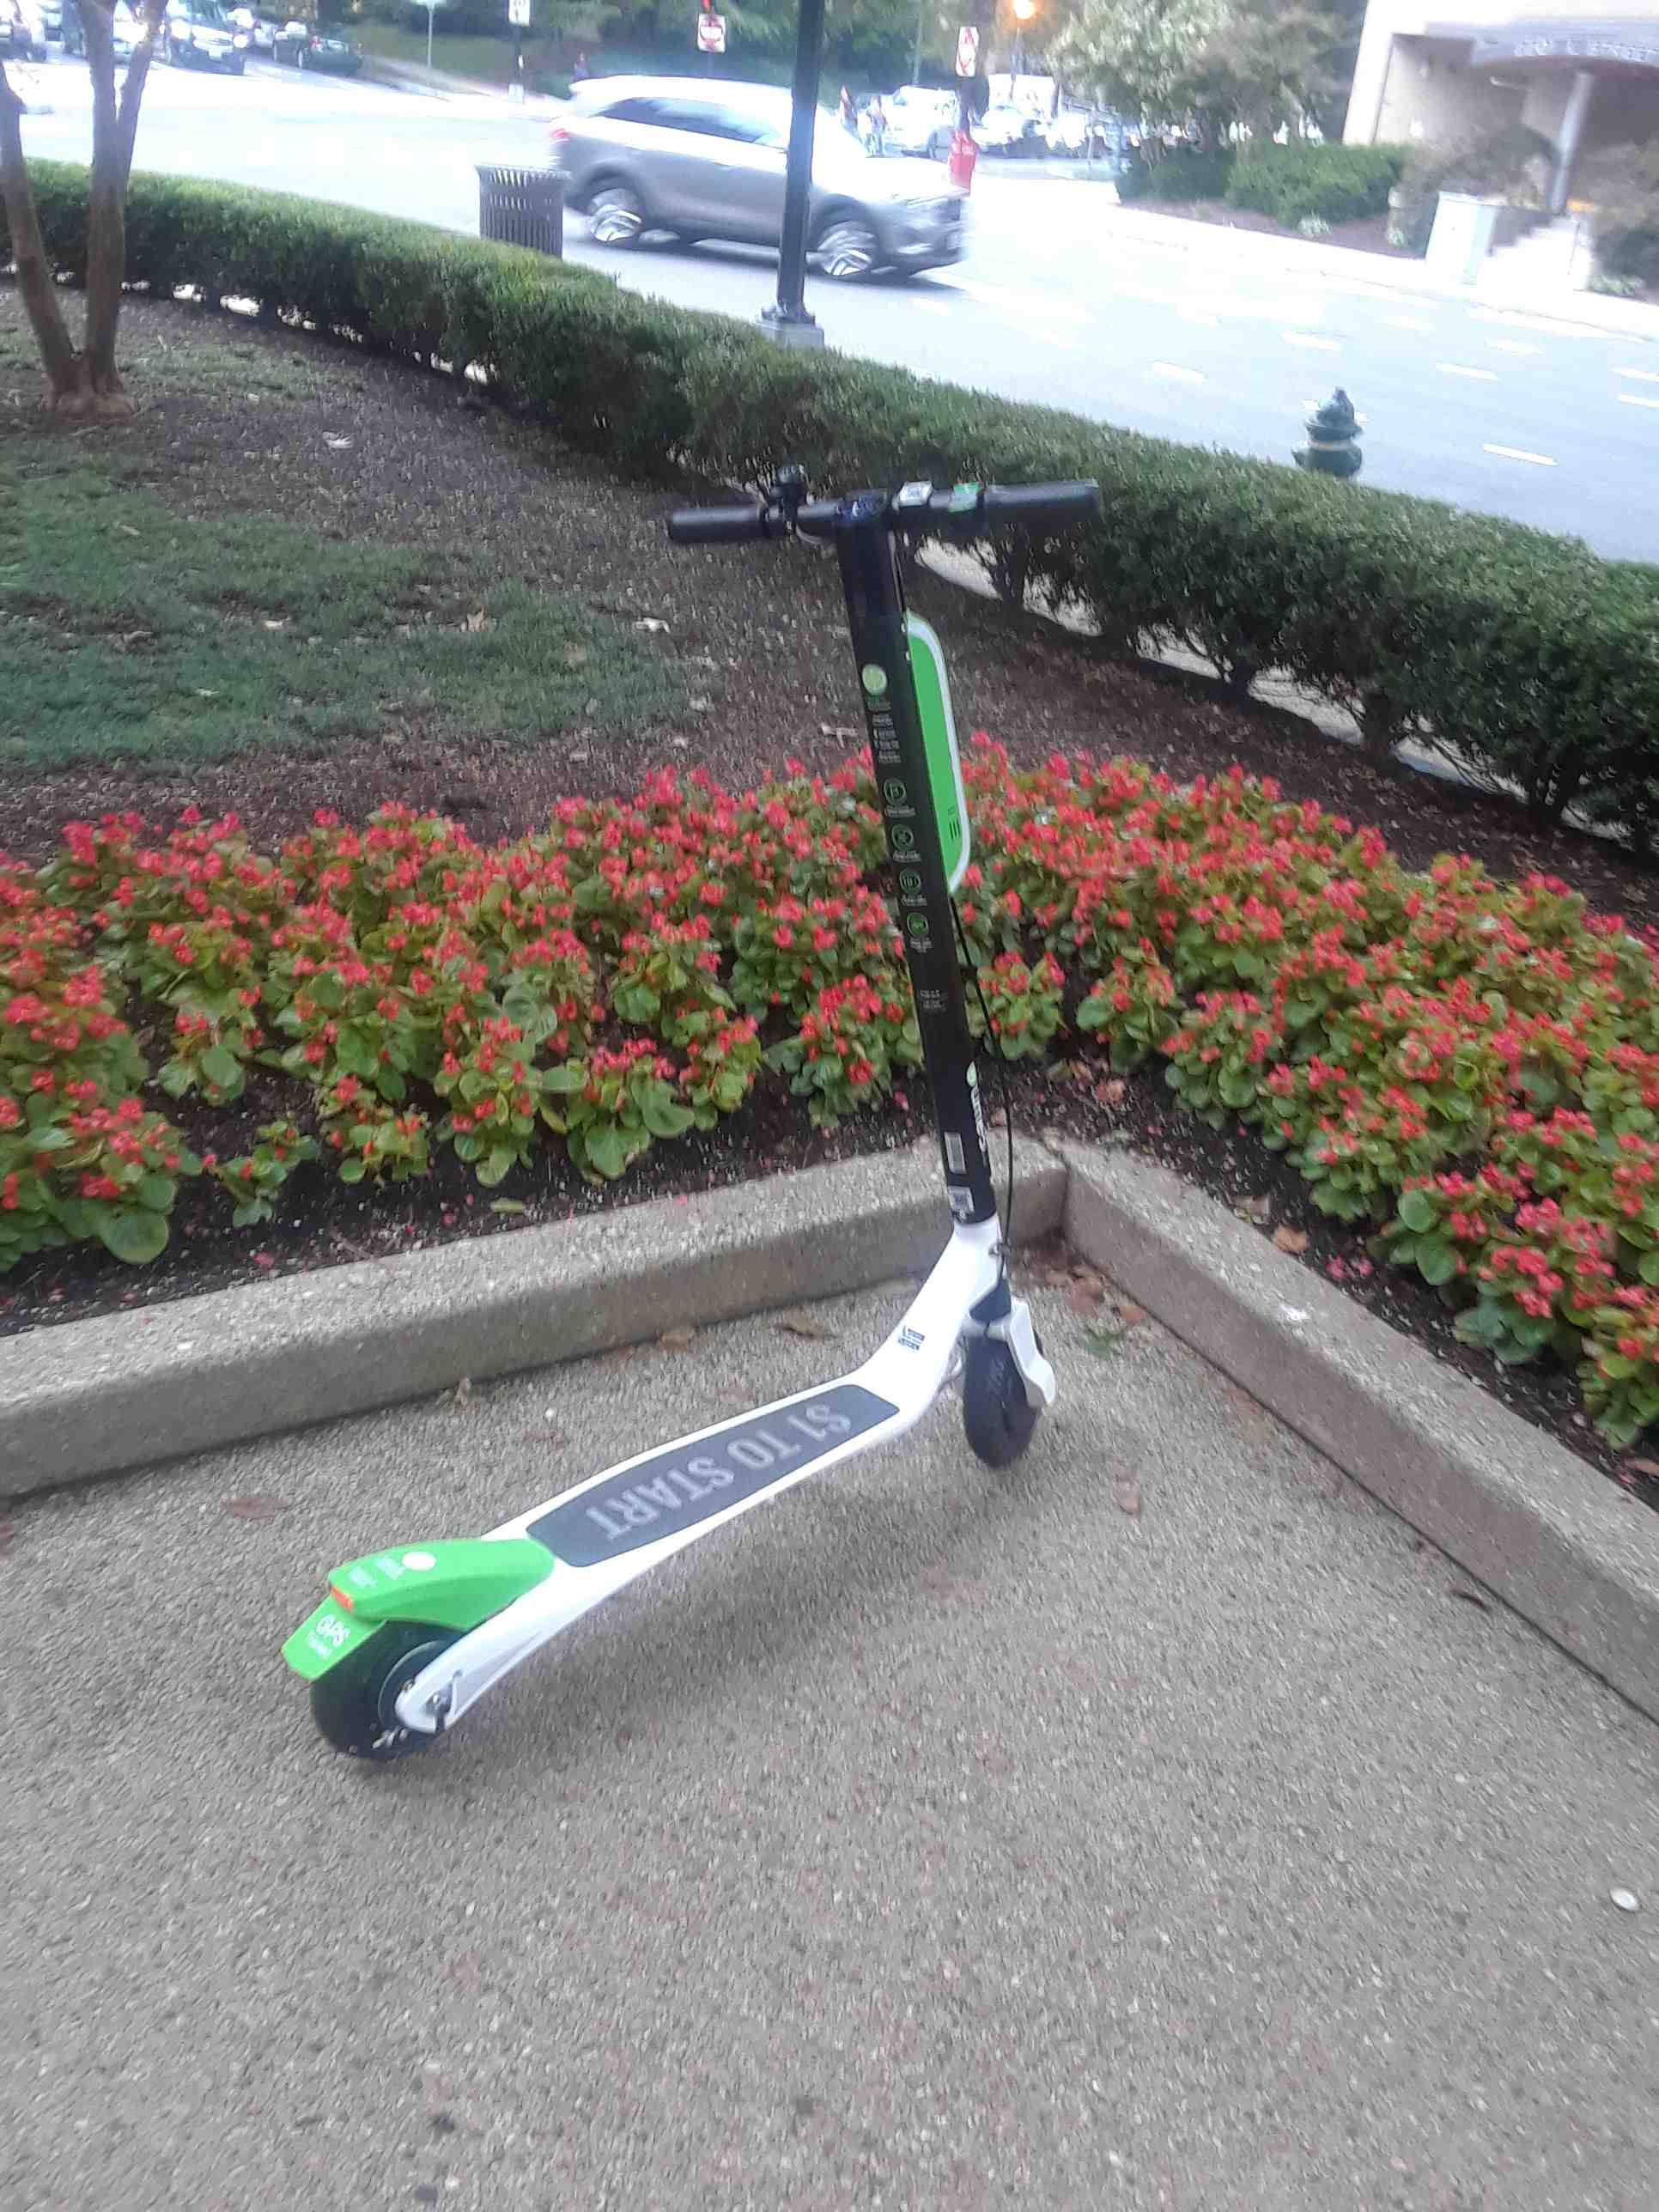scooter: (258, 446, 1136, 1785)
